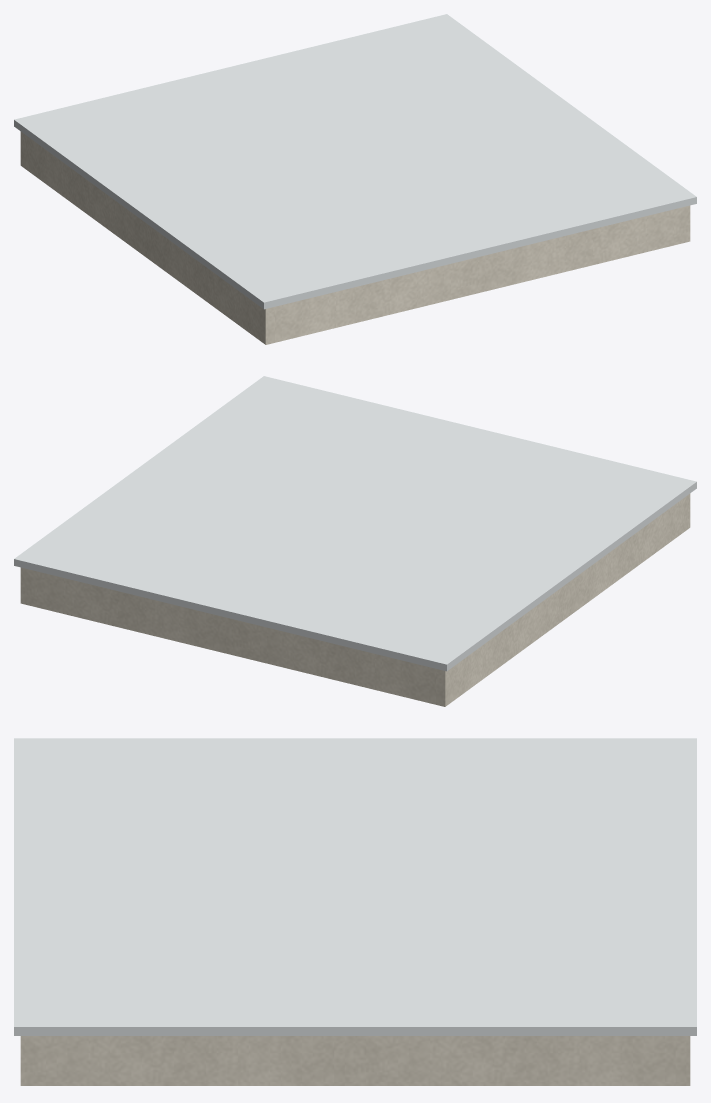
Rendered from floor_tile_bath.glb.
3 renders of one model, top to bottom at view 1: azimuth 30°, elevation 25°; view 2: azimuth 150°, elevation 25°; view 3: azimuth 270°, elevation 25°, orthographic. The views are drawn at different scales.
Parts seen in each view (by area): view 1: floor_tile_bath_tile, floor_tile_bath_plaster; view 2: floor_tile_bath_tile, floor_tile_bath_plaster; view 3: floor_tile_bath_tile, floor_tile_bath_plaster.
Part boxes in pixels (bbox=[...]): floor_tile_bath_tile: bbox=[14, 14, 696, 309]; floor_tile_bath_plaster: bbox=[20, 131, 690, 344]; floor_tile_bath_tile: bbox=[14, 376, 696, 671]; floor_tile_bath_plaster: bbox=[20, 493, 690, 706]; floor_tile_bath_tile: bbox=[14, 738, 696, 1035]; floor_tile_bath_plaster: bbox=[20, 1036, 690, 1085].
Size of the model in its own units: 2 by 0.2 by 2.
Materials: 2 (1 with a texture image).
